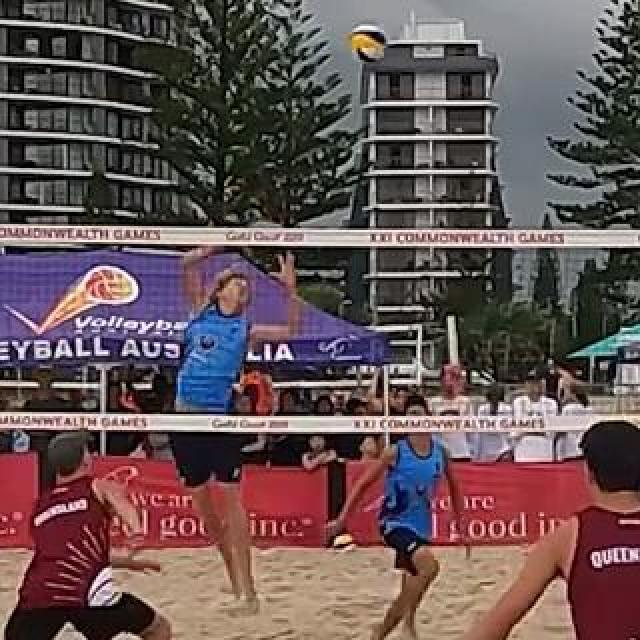volleyball: (347, 28, 385, 62), (335, 532, 357, 556)
